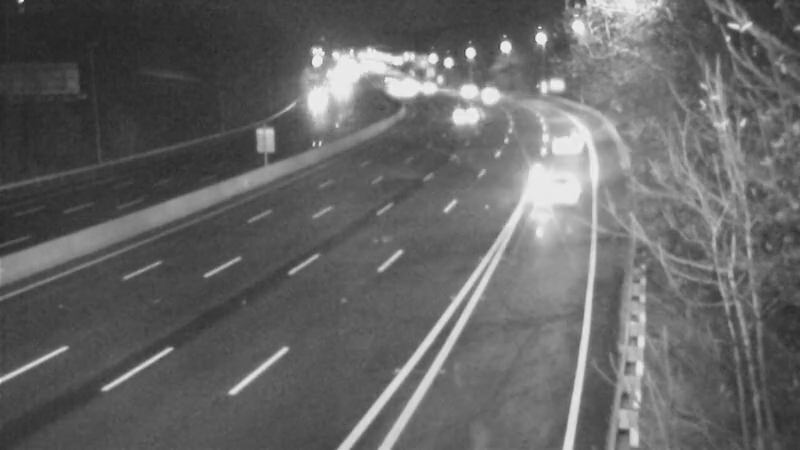vehicle: (518, 157, 598, 237), (441, 64, 491, 114), (459, 71, 509, 121), (442, 95, 492, 145), (542, 121, 592, 171), (290, 71, 340, 121)
